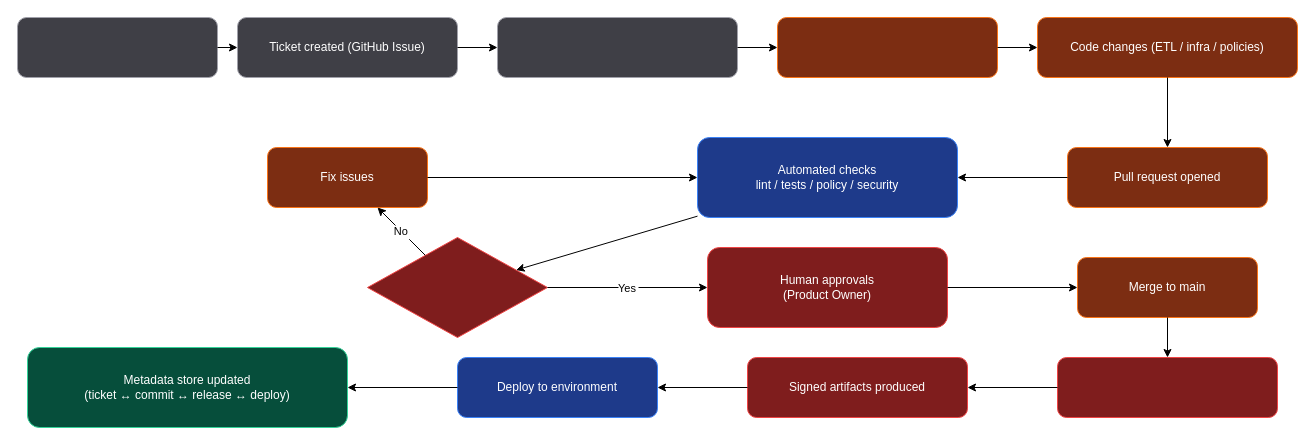
Some shapes in this 1315 by 445 pixel diagram are drawn without their labels. The shapes that lost their labels are listed below. From the top down, each one's centre as x and y in pixels, then its label:
At [117,47]: "Change request raised".
At [617,47]: "Design notes + acceptance criteria".
At [887,47]: "Branch referencing ticket ID".
At [457,287]: "Governance gate passes?".
At [1167,387]: "Release created (version tag)".
